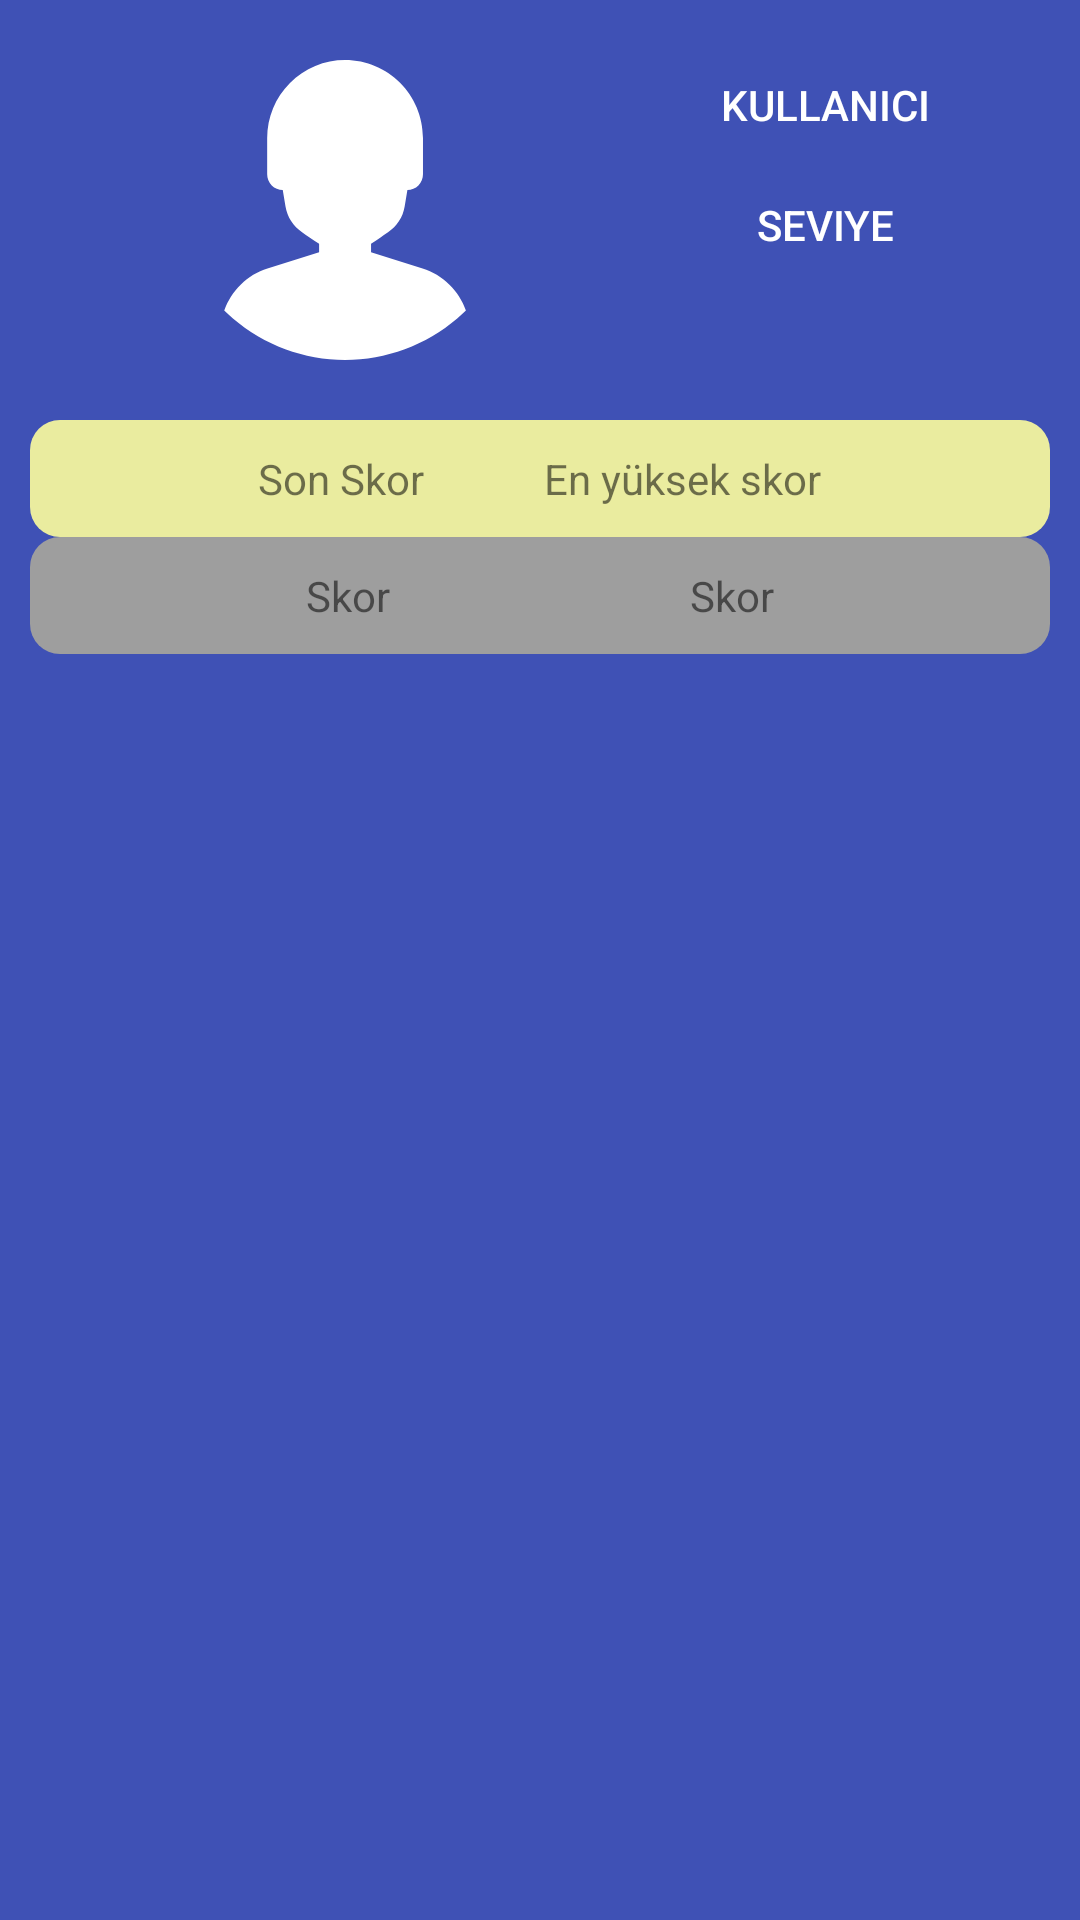

Icons on this 1080×1920 Android screen, each with the point to tap as (x=x, y=y):
Profil: (x=345, y=210)
